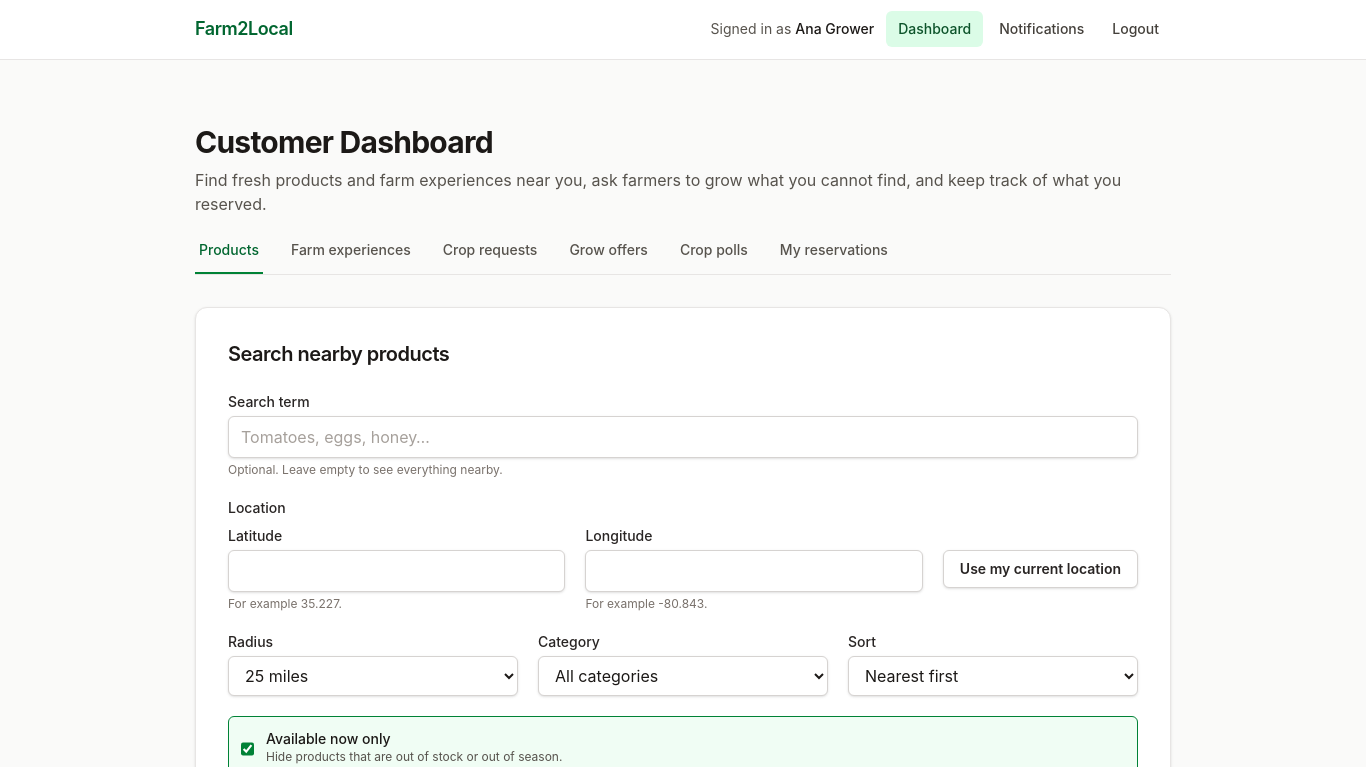
reserving a product from the search results › reserves the chosen quantity and shows the reduced stock
The image size is (1366, 767).
Type "35.2271" into the field labelled "Latitude" at (397, 571), box [228,550,565,592]
Type "-80.8431" into the field labelled "Longitude" at (754, 571), box [585,550,923,592]
(page scrolled)
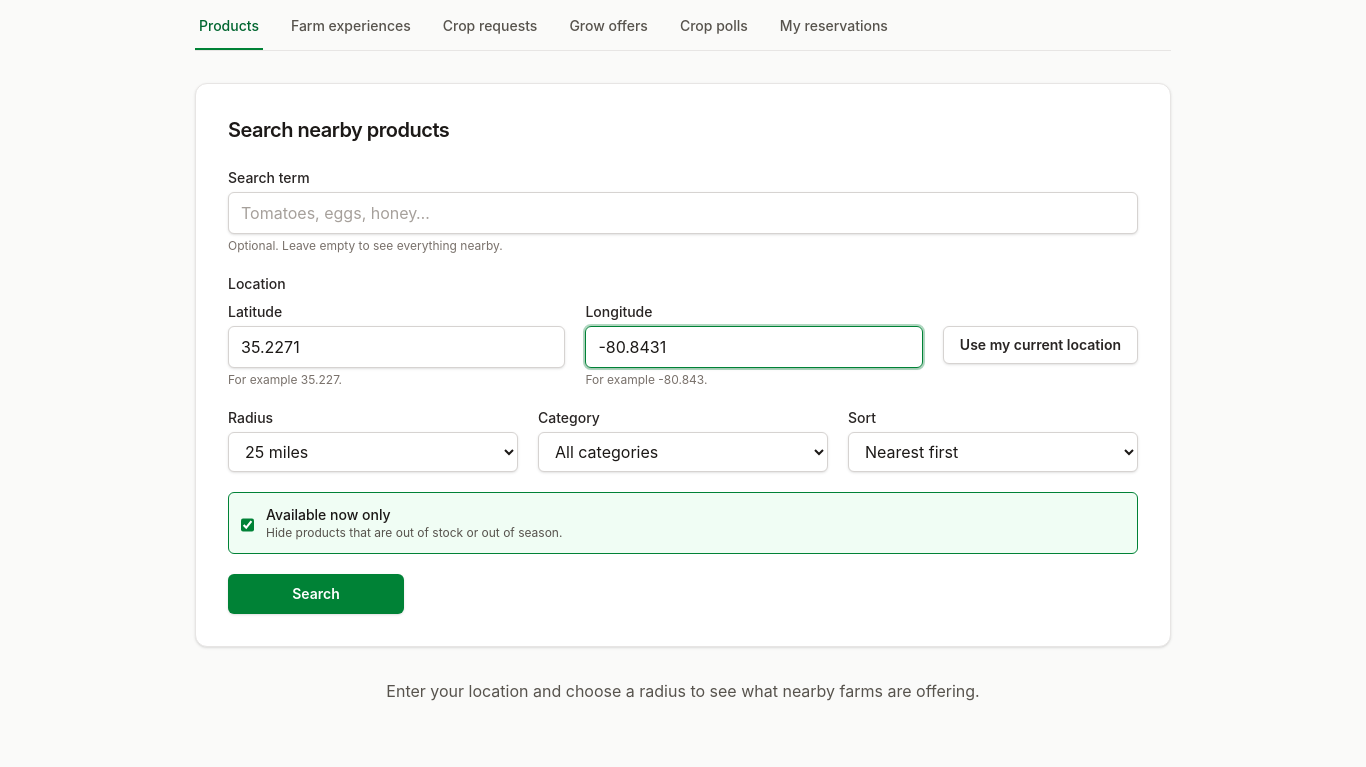
Click the button "Search" at (316, 594), box [228,574,404,614]
(page scrolled)
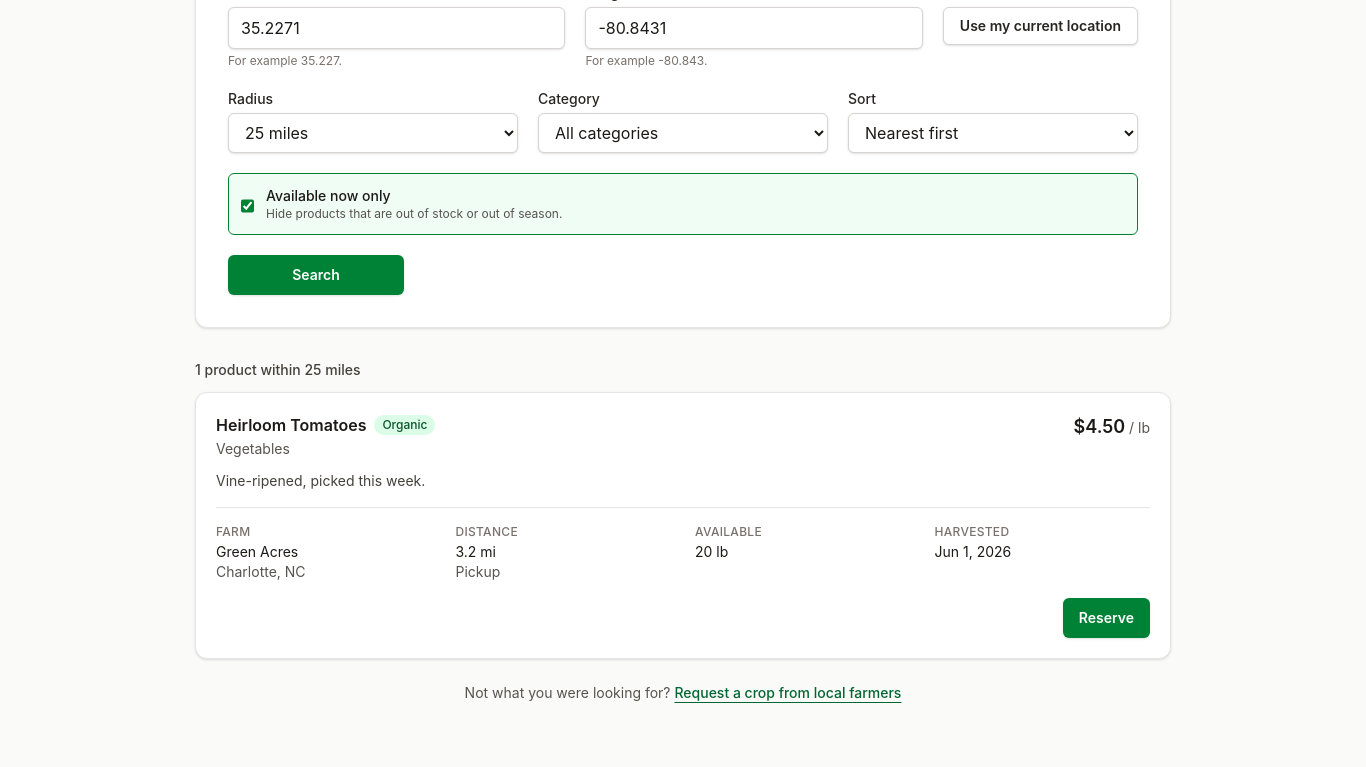
Click the button with aria-label "Reserve Heirloom Tomatoes" at (1106, 618), box [1063,598,1150,638]
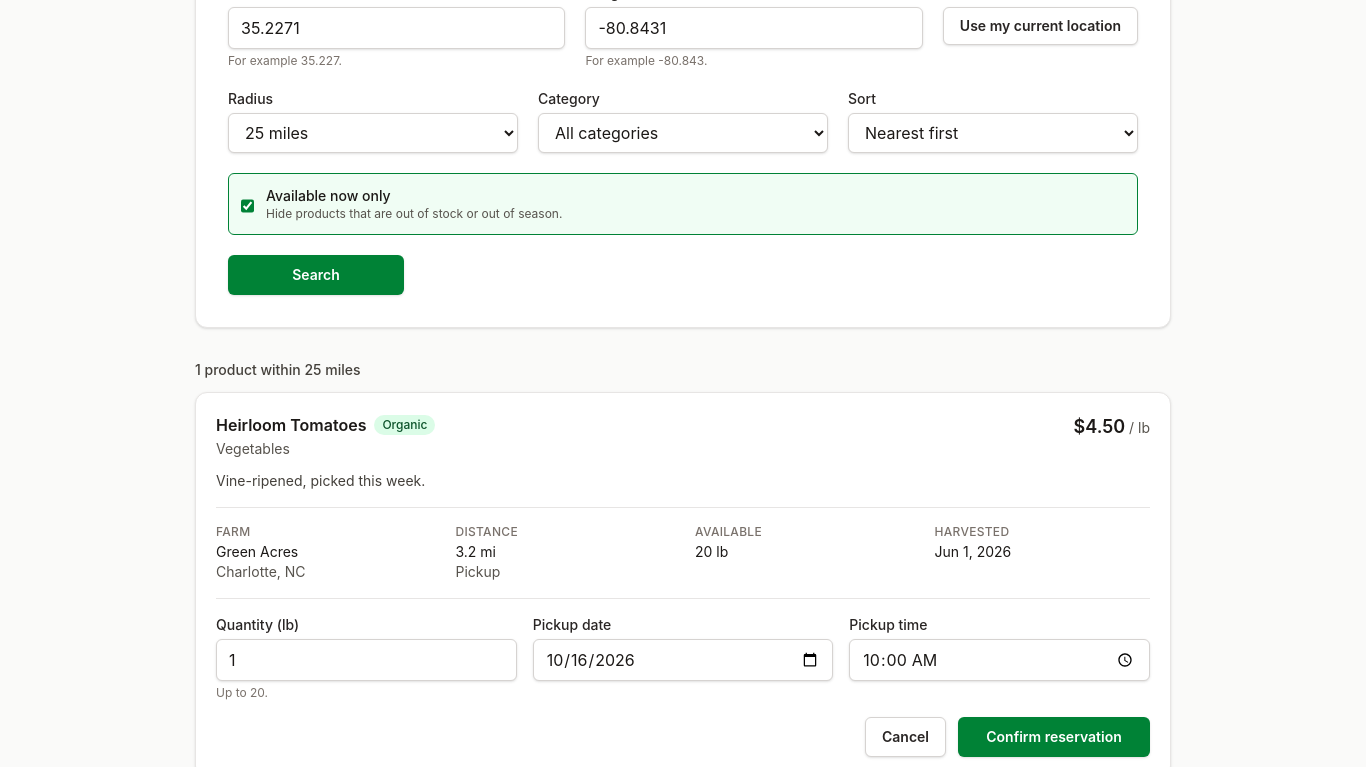
Replace the text in the field labelled "Quantity (lb)" with "3" at (366, 660), box [216,639,517,681]
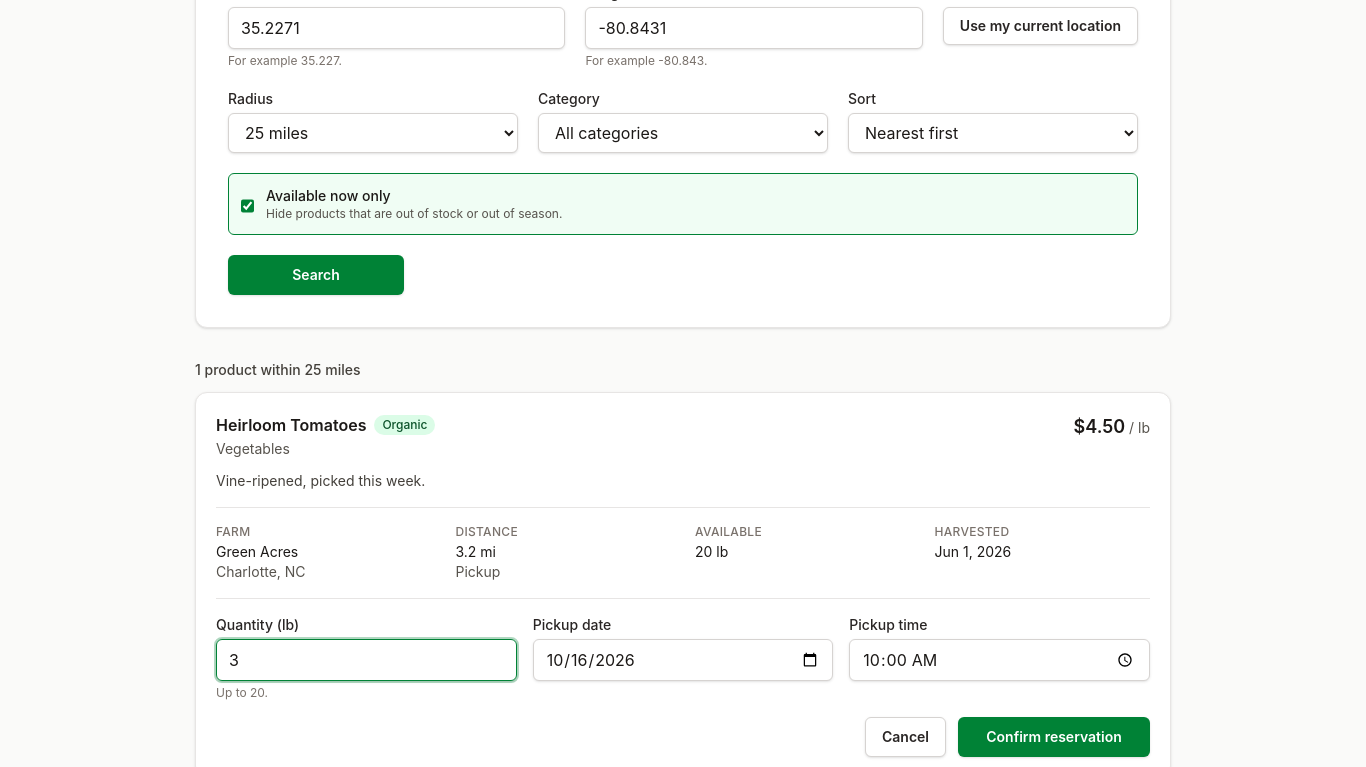
Replace the text in the time field labelled "Pickup time" with "14:30" at (1000, 660), box [849,639,1150,681]
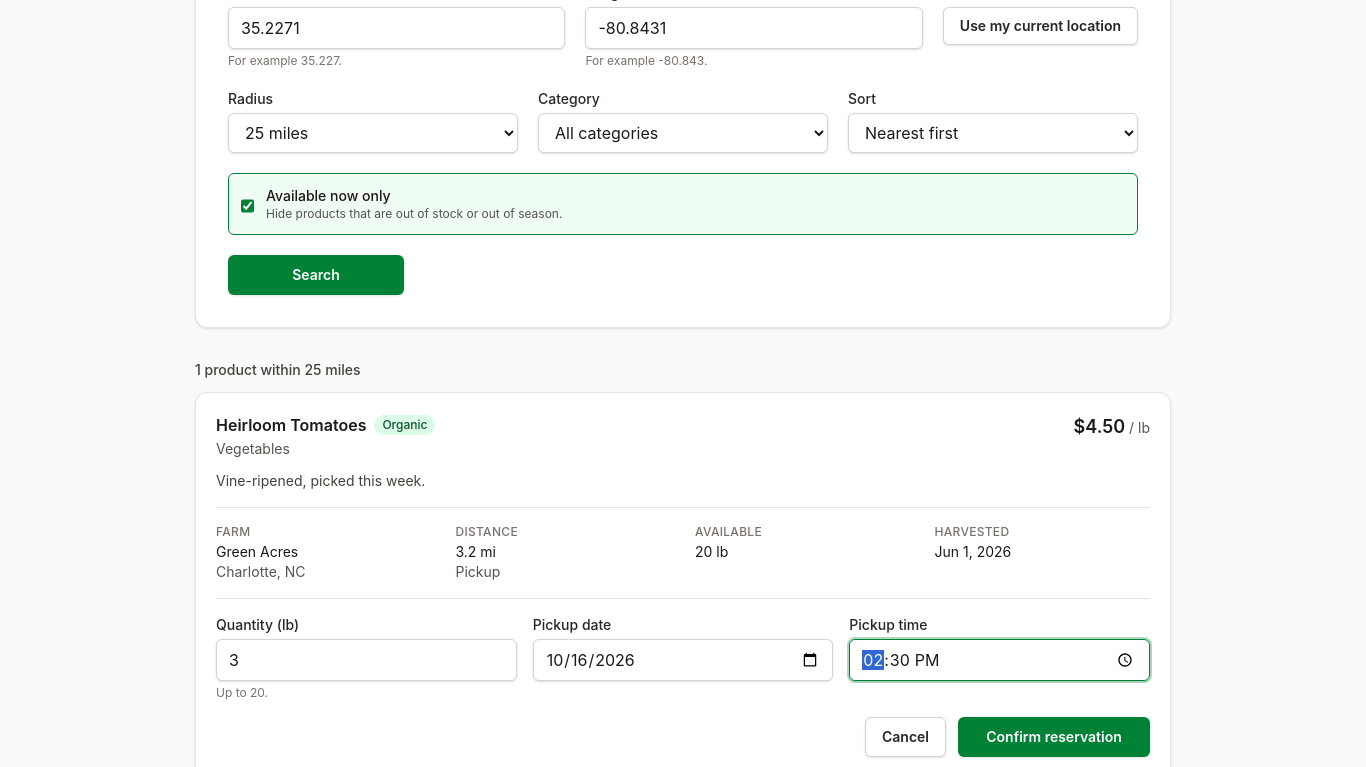
Click the button "Confirm reservation" at (1054, 737), box [958,717,1150,757]
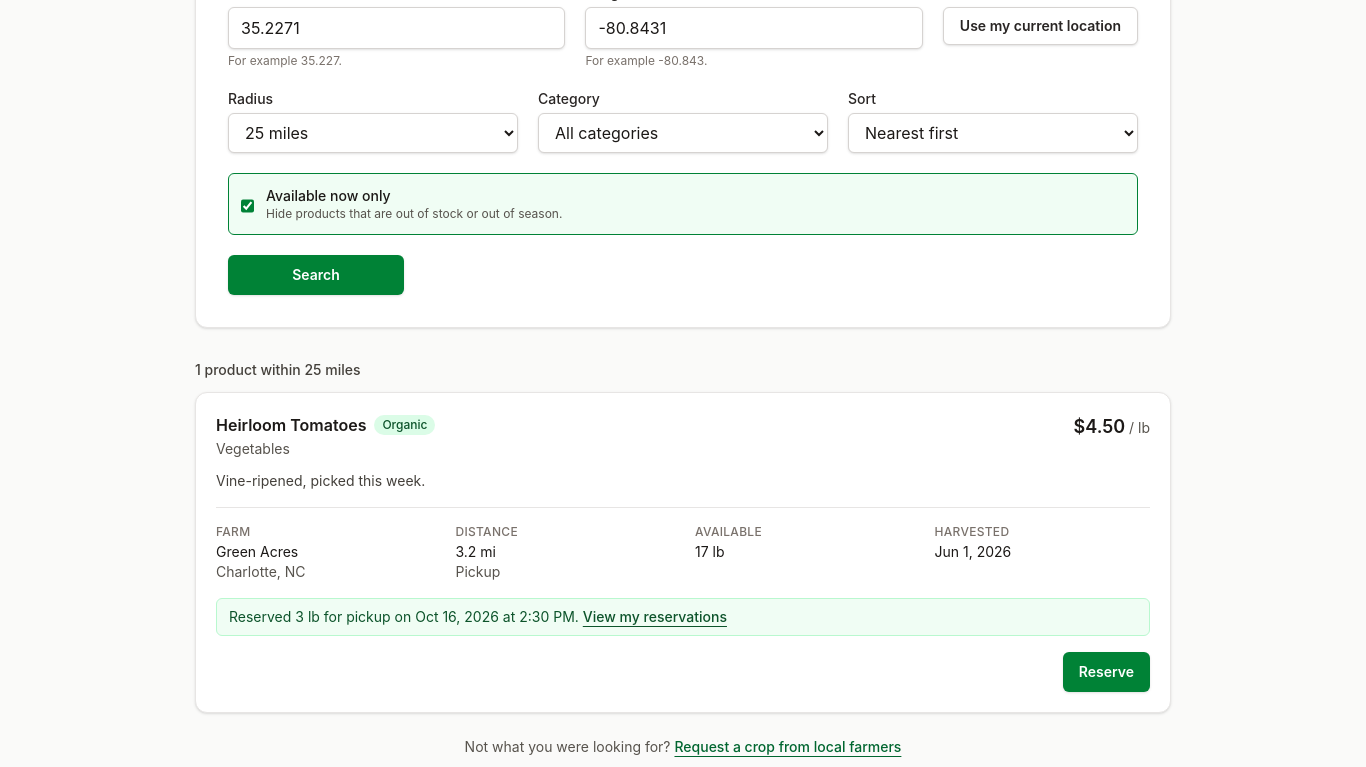
Expected: the message reads "Reserved 3 lb for pickup on Oct 16, 2026 at 2:30 PM. View my reservations", [216,598,1150,636]
Expected: the text "17 lb" is shown, [695,543,724,560]
